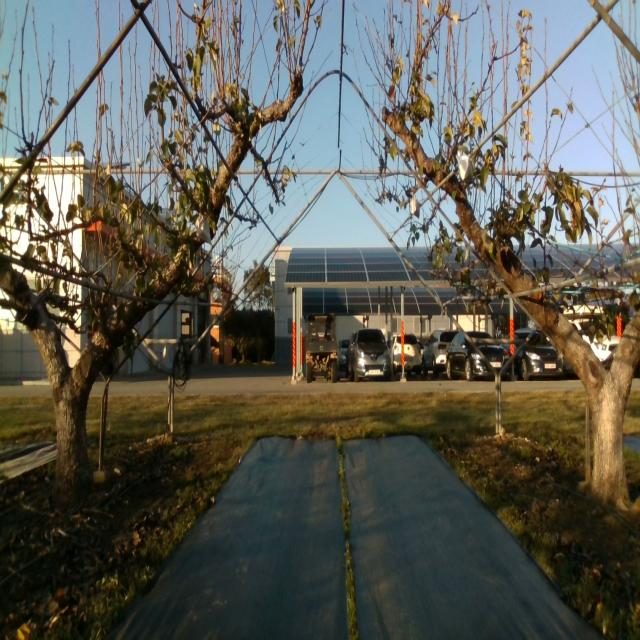pearbags: (196, 213, 211, 244), (458, 150, 470, 181)
